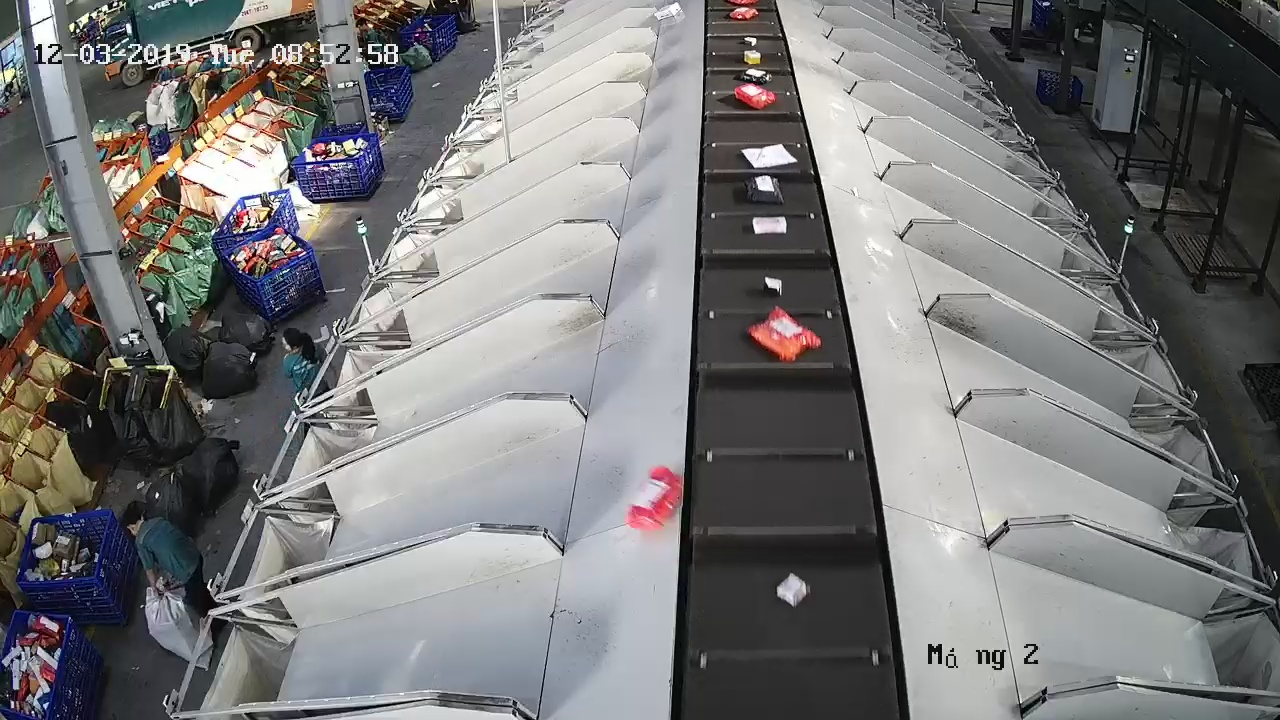parcel: (745, 304, 823, 364), (624, 464, 684, 532), (739, 143, 799, 170), (742, 174, 786, 206), (776, 570, 811, 610), (751, 214, 789, 236), (761, 275, 785, 298)
